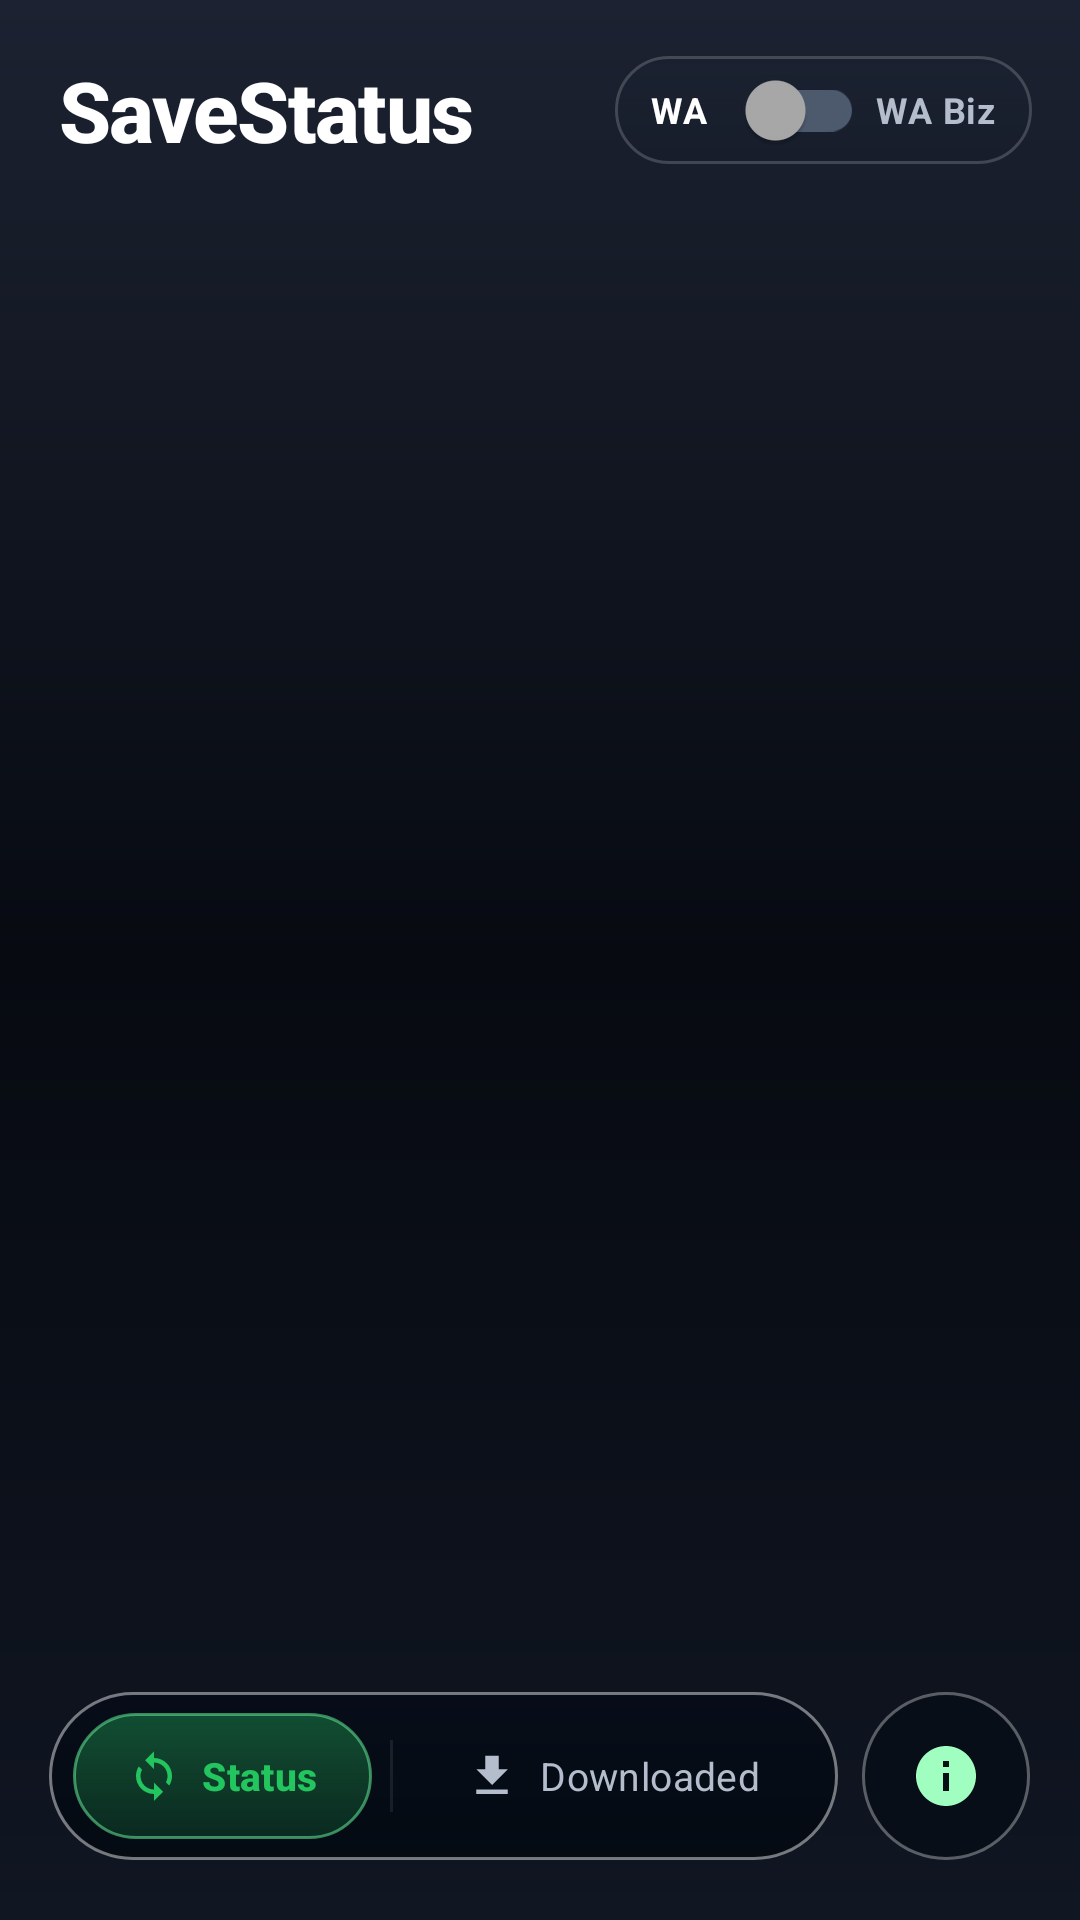

Icon bounding boxes for this 1080×1920 phone screenshot, format (left=x1, top=y1, right=x2, bottom=y2):
About: (left=862, top=1692, right=1030, bottom=1860)
